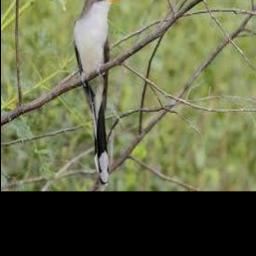Cuckoo: (73, 0, 126, 184)
